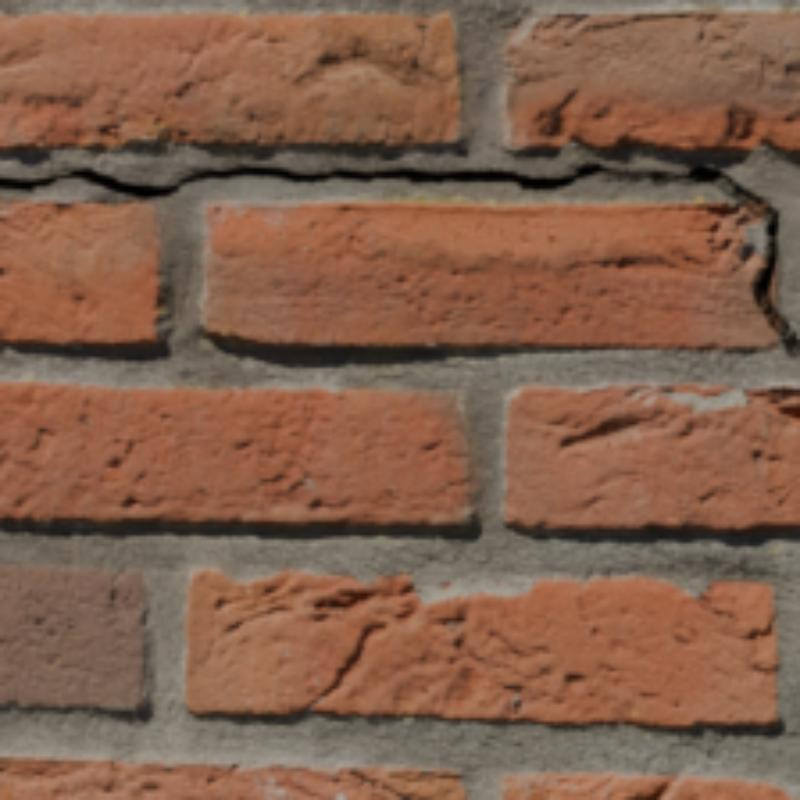crack: (0, 164, 796, 350)
